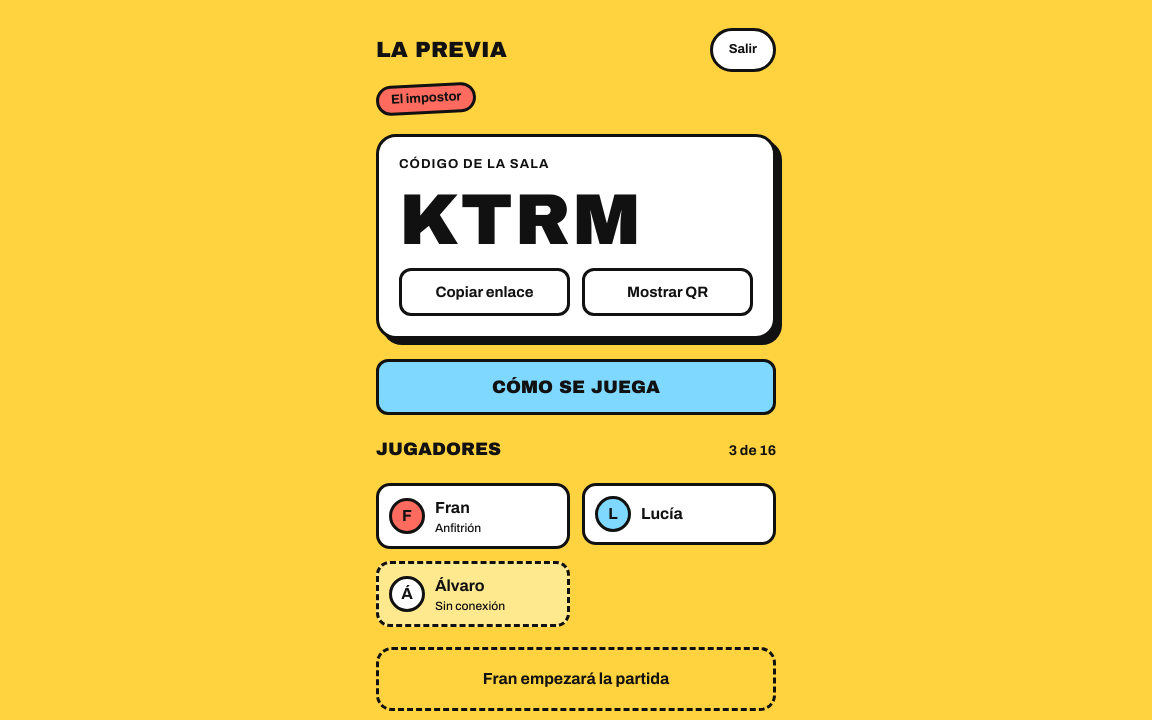
Room › cualquiera abre y cierra el tutorial del juego elegido
Expected: the text "Paso 1 de 3" is not shown
Click the button "Cómo se juega" at (576,387), box [376,359,776,415]
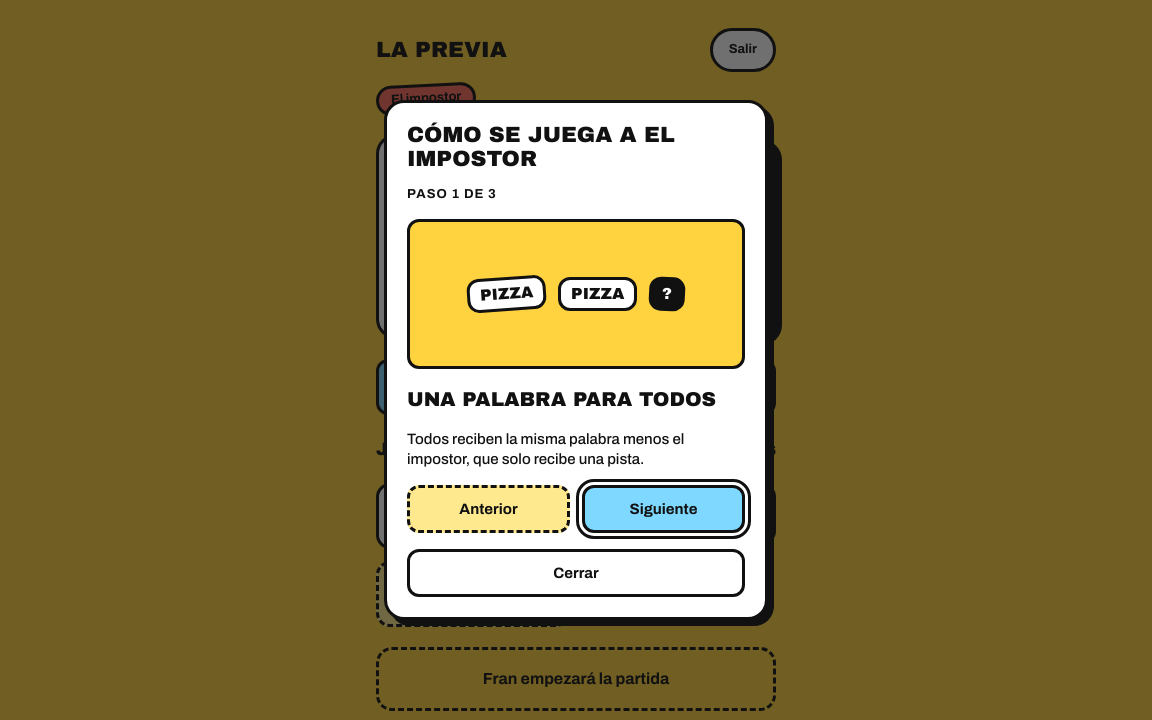
Now the heading "Cómo se juega a El impostor" is shown, box [407,123,675,171]
Click the button "Cerrar" at (576,573), box [407,549,745,597]
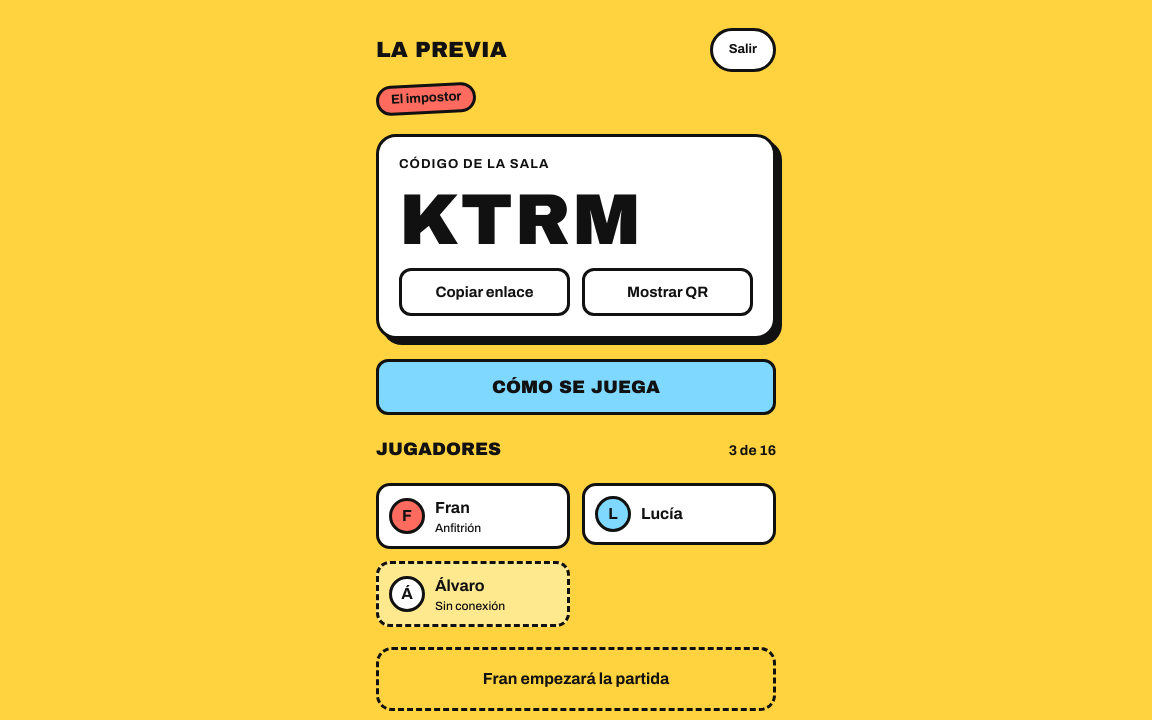
Now the text "Paso 1 de 3" is gone
